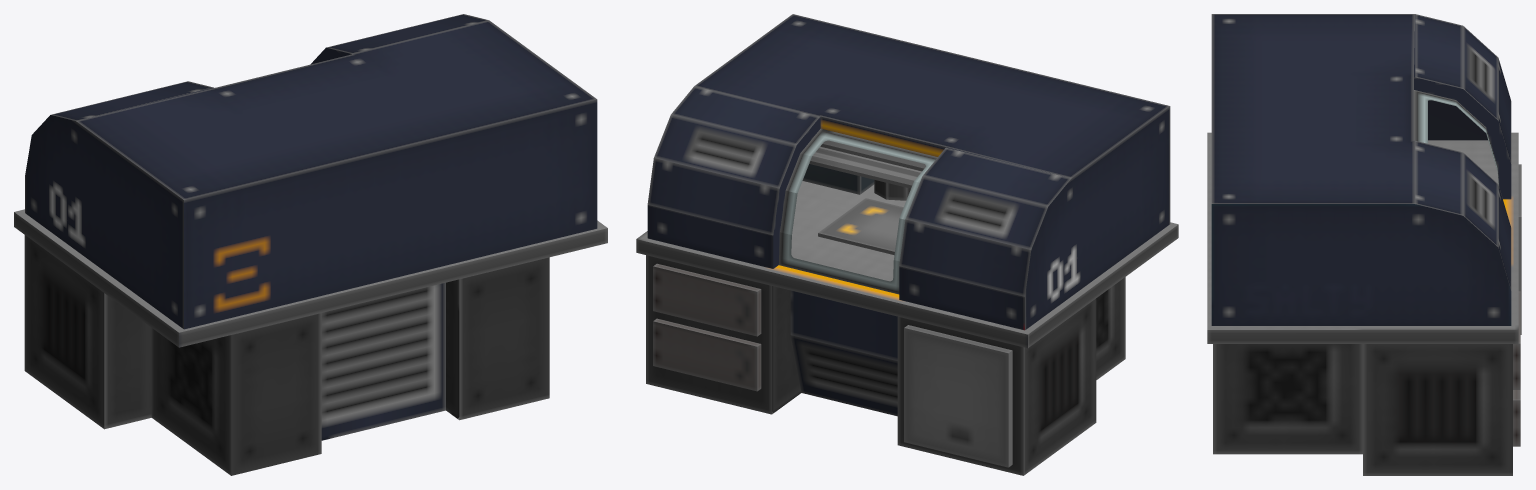
File: stanok.obj
The picture shows the model from 3 angles, left to right: view 1: azimuth 30°, elevation 25°; view 2: azimuth 150°, elevation 25°; view 3: azimuth 270°, elevation 25°; orthographic projection. The views are drawn at different scales.
Parts seen in each view (by area): view 1: Цилиндр.003_selection, Цилиндр.003; view 2: Цилиндр.003_selection, Цилиндр.003; view 3: Цилиндр.003_selection, Цилиндр.003.
Part boxes in pixels (x1=…): Цилиндр.003_selection: x1=25, y1=14, x2=597, y2=329; Цилиндр.003: x1=14, y1=209, x2=607, y2=475; Цилиндр.003_selection: x1=647, y1=14, x2=1170, y2=330; Цилиндр.003: x1=636, y1=140, x2=1178, y2=475; Цилиндр.003_selection: x1=1211, y1=14, x2=1511, y2=325; Цилиндр.003: x1=1207, y1=132, x2=1521, y2=475.
Size of the model in its own units: 3.11 by 2 by 2.09.
